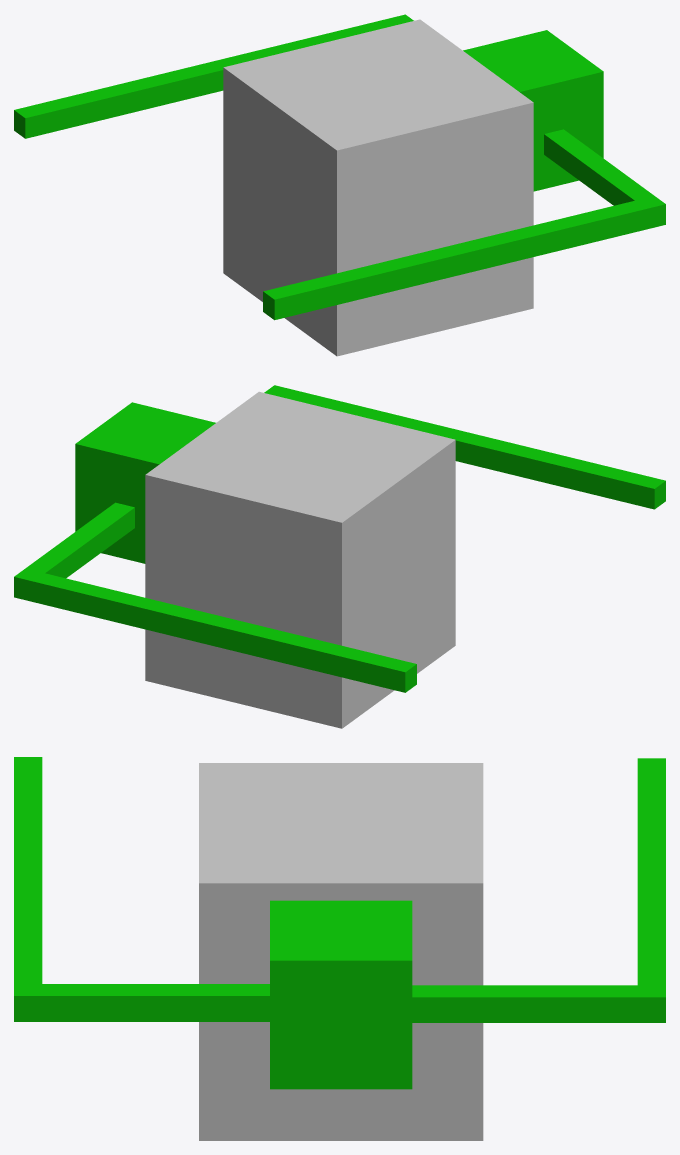
Rendered from Flow.obj.
3 renders of one model, top to bottom at view 1: azimuth 30°, elevation 25°; view 2: azimuth 150°, elevation 25°; view 3: azimuth 270°, elevation 25°, orthographic. The views are drawn at different scales.
Parts seen in each view (by area): view 1: Cube.001, Cube.003, Cube, Cube.002; view 2: Cube.001, Cube.002, Cube, Cube.003; view 3: Cube.001, Cube, Cube.003, Cube.002.
Boxes of the visible parts, x1,y1,x2,y2 form: Cube.001: (223,19,533,356); Cube.003: (263,129,665,320); Cube: (463,30,603,191); Cube.002: (14,14,413,138); Cube.001: (145,391,455,728); Cube.002: (14,502,416,692); Cube: (75,402,215,563); Cube.003: (264,385,665,509); Cube.001: (199,763,483,1140); Cube: (270,900,412,1089); Cube.003: (14,757,269,1021); Cube.002: (412,758,665,1022).
Size of what is drawn, in the model's own units: 4.39 by 2 by 4.59.
